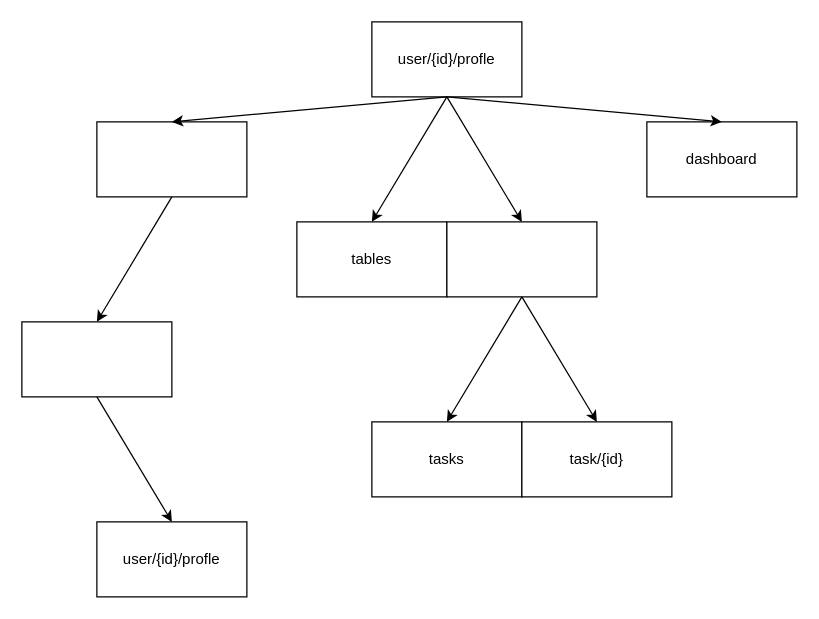
The diagram is 819 pixels wide and 619 high, and some of its shapes have lost their labels. Here are the shapes that lost their labels. From the top down, the centre of each, then its label:
At (171,159): "profile".
At (521,259): "table/{id}".
At (96,359): "friends".
